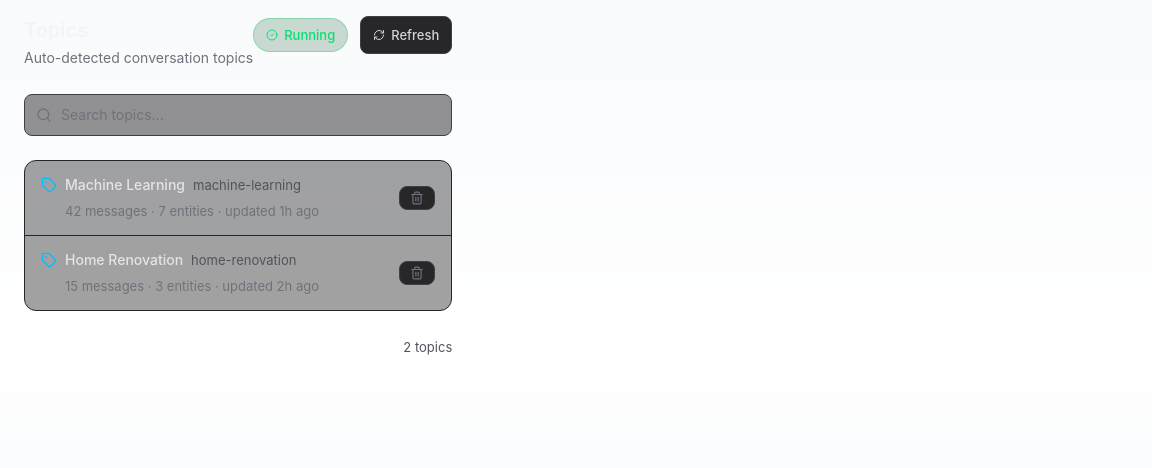
Scenario: TopicsPage › shows no-match message when search has no results
This screenshot has width=1152, height=468.
Expected: the text "Machine Learning" is shown, [65,173,185,197]
Type "xyznotfound" into the search field with placeholder "Search topics..." at (238, 115), box [24,94,452,136]
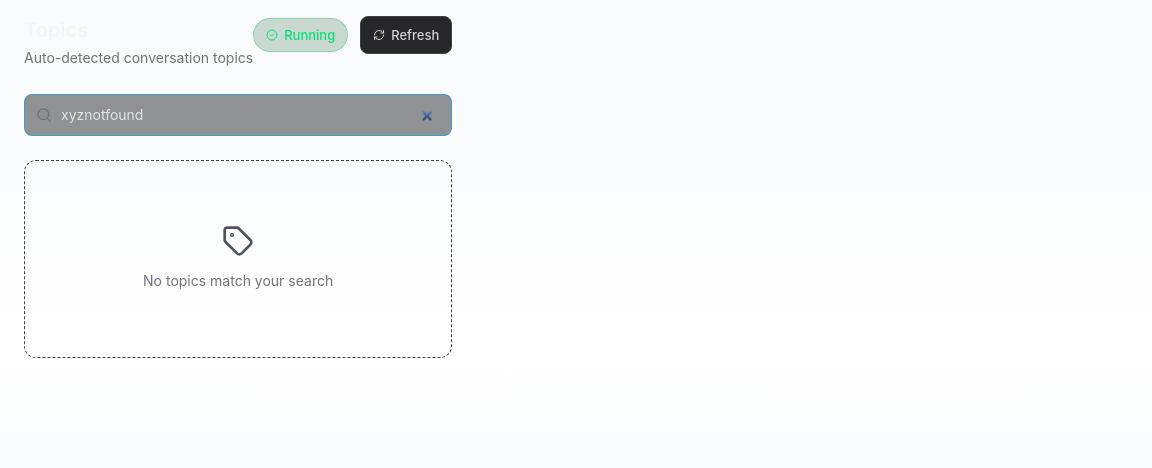
Expected: the text "No topics match your search" is shown, [143,269,333,293]
